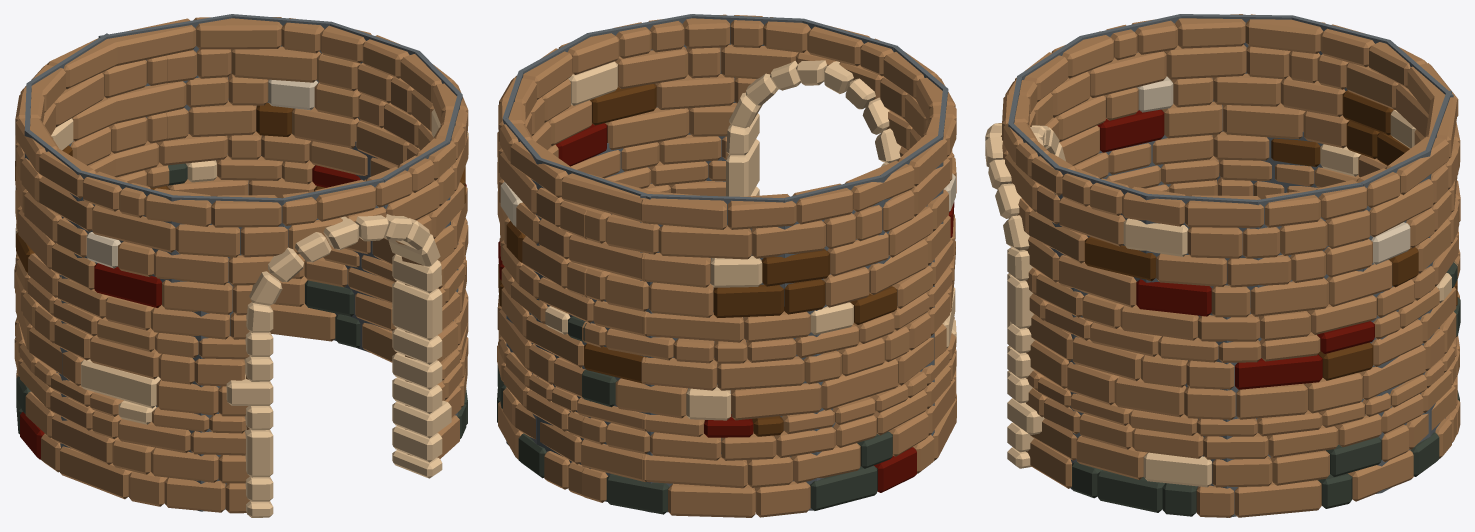
File: base-section-with-doorway_.glb
The picture shows the model from 3 angles, left to right: view 1: azimuth 30°, elevation 25°; view 2: azimuth 150°, elevation 25°; view 3: azimuth 270°, elevation 25°; orthographic projection.
Parts seen in each view (by area): view 1: main-wall.285, doorframe, grout-wall; view 2: main-wall.285, grout-wall, doorframe; view 3: main-wall.285, grout-wall, doorframe.
Boxes of the visible parts, <box> form: main-wall.285: <box>14,17,468,513</box>; doorframe: <box>226,214,451,517</box>; grout-wall: <box>24,14,462,511</box>; main-wall.285: <box>497,14,956,517</box>; grout-wall: <box>502,14,948,512</box>; doorframe: <box>726,60,901,196</box>; main-wall.285: <box>1001,14,1460,517</box>; grout-wall: <box>1008,14,1453,517</box>; doorframe: <box>985,123,1065,468</box>.
Size of the model in its own units: 2 by 1.51 by 2.07.
